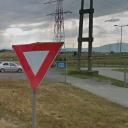preferencia: (9, 39, 65, 92)
